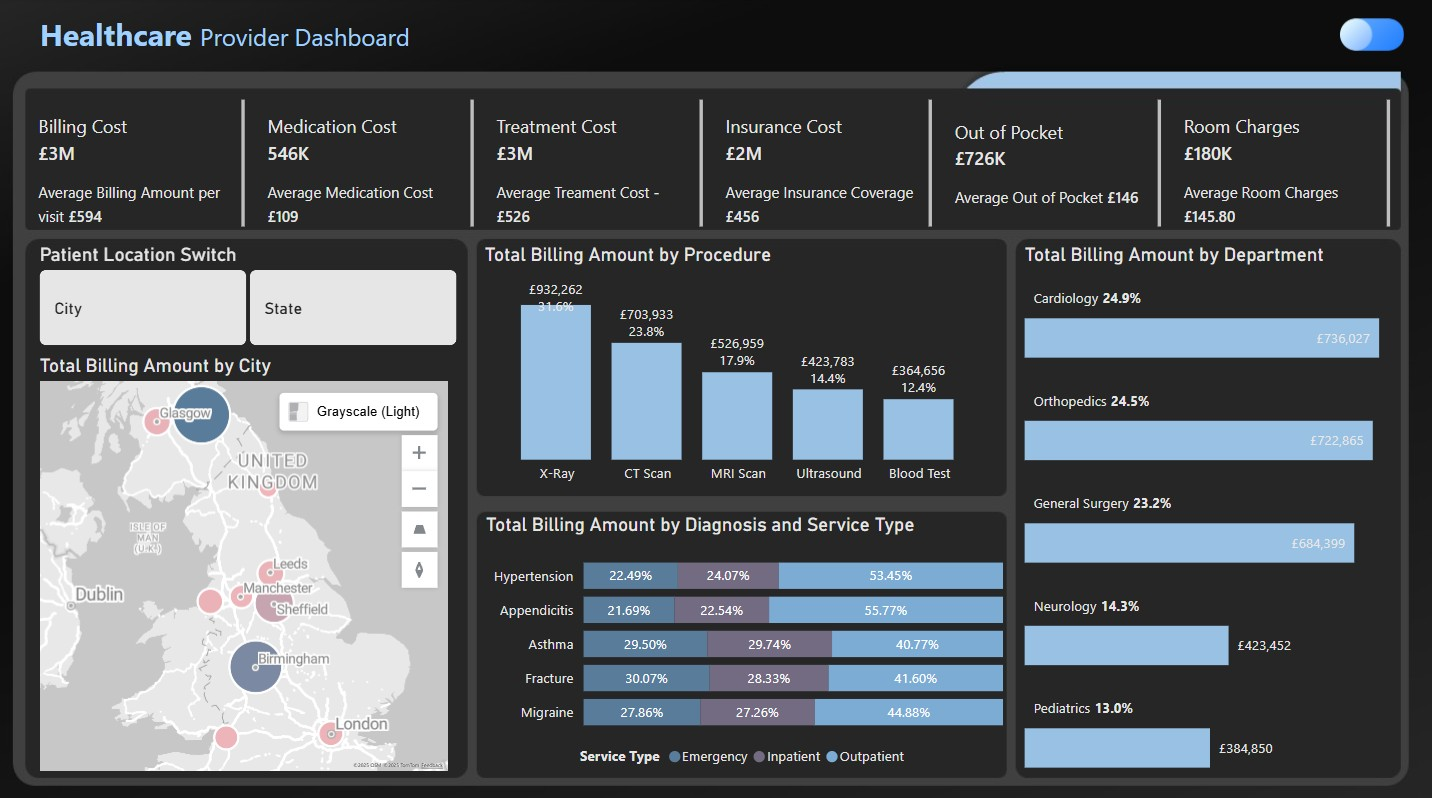

This screenshot's page, from the dashboard's own definition file:
{"tool":"powerbi","page":{"name":"Details-Dark","canvas":[1280,720],"ordinal":1},"visuals":[{"type":"cardVisual","fields":{"Data":["Measure_Table.Total Billing Cost","Measure_Table.Total Medication Cost","Measure_Table.Total Treatment Cost","Measure_Table.Total Insurance coverage","Measure_Table.Out of Pocket","Measure_Table.Total Room Charges"]},"box":[19.3,85.7,1228.2,123.1],"z":0},{"type":"azureMap","fields":{"Category":["cities.City","cities.State"],"Size":["Measure_Table.Total Billing Cost"]},"box":[32.6,317.3,374,376.4],"z":1000},{"type":"advancedSlicerVisual","fields":{"Values":["Patient Location Switch.Patient Location Switch"]},"box":[32.6,218.4,382.4,96.5],"z":2000},{"type":"clusteredColumnChart","fields":{"Category":["procedures.Procedure"],"Y":["Measure_Table.Total Billing Amount"]},"box":[428.3,218.4,462.1,223.2],"z":3000},{"type":"hundredPercentStackedBarChart","fields":{"Y":["Measure_Table.Total Billing Amount"],"Category":["diagnoses.Diagnosis"],"Series":["visits.Service Type"]},"box":[429.5,458.4,470.5,235.3],"z":4000},{"type":"clusteredBarChart","title":"Total Billing Amount by Department","fields":{"Category":["departments.Department"],"Y":["Measure_Table.Blank Measure","Measure_Table.Total Billing Amount"]},"box":[909.7,218.4,351.1,475.3],"z":5000},{"type":"textbox","box":[32,8.6,348.3,48],"z":6000},{"type":"actionButton","title":"Off Button","box":[1190.8,0,89.3,65.1],"z":6001}]}

Visuals, with their boxes in screenshot pixels (x1, y1, x2, y2), scaled from the page's 1280x720 canvas onto the 1432x798 screenshot:
cardVisual - Measure_Table.Total Billing Cost x Measure_Table.Total Medication Cost: [22,95,1396,231]
azureMap - cities.City x cities.State: [36,352,455,769]
advancedSlicerVisual - Patient Location Switch.Patient Location Switch: [36,242,464,349]
clusteredColumnChart - procedures.Procedure x Measure_Table.Total Billing Amount: [479,242,996,489]
hundredPercentStackedBarChart - Measure_Table.Total Billing Amount x diagnoses.Diagnosis: [481,508,1007,769]
"Total Billing Amount by Department" clusteredBarChart: [1018,242,1411,769]
textbox: [36,10,425,63]
"Off Button" actionButton: [1332,0,1431,72]
